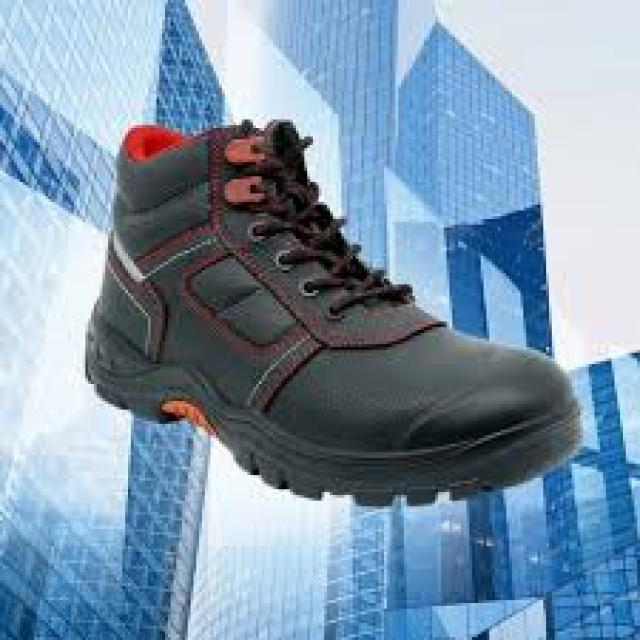shoes: (86, 121, 580, 504)
